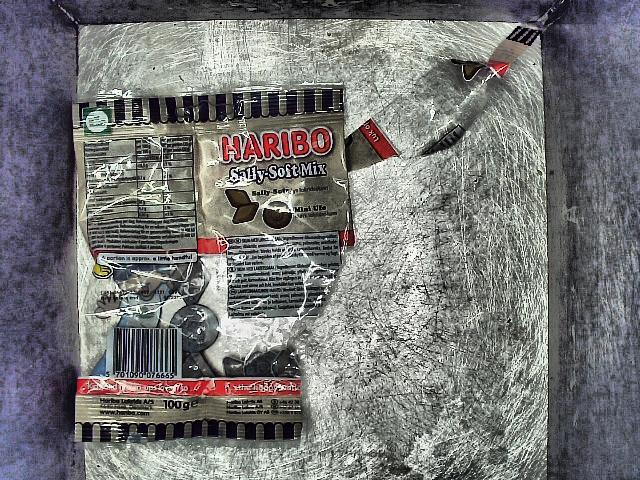Plastic: (66, 81, 366, 457), (351, 20, 542, 170)
